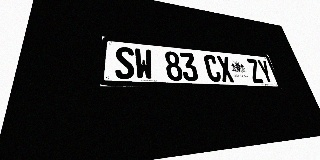3: (179, 52, 199, 81)
8: (164, 51, 184, 81)
C: (203, 54, 222, 82)
S: (115, 46, 135, 79)
W: (134, 48, 154, 80)
X: (216, 56, 235, 82)
Y: (256, 59, 275, 84)
Z: (246, 58, 264, 83)
